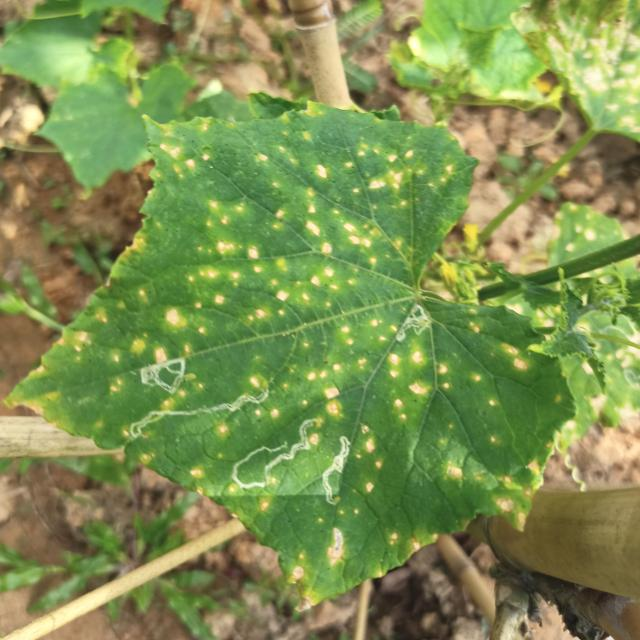disease_cucumber: (53, 122, 462, 365), (385, 349, 497, 424), (442, 454, 546, 533), (286, 509, 361, 586), (312, 355, 370, 417), (358, 422, 382, 498), (387, 530, 424, 558), (162, 384, 203, 408), (504, 342, 529, 373), (252, 404, 280, 422)
